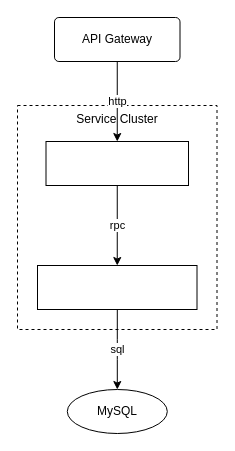
Some shapes in this 235 by 451 pixel diagram are drawn without their labels. The shapes that lost their labels are listed below. From the top down, each one's centre as x and y in pixels, then its label:
(116,163): Order Service
(116,287): Payment Service
